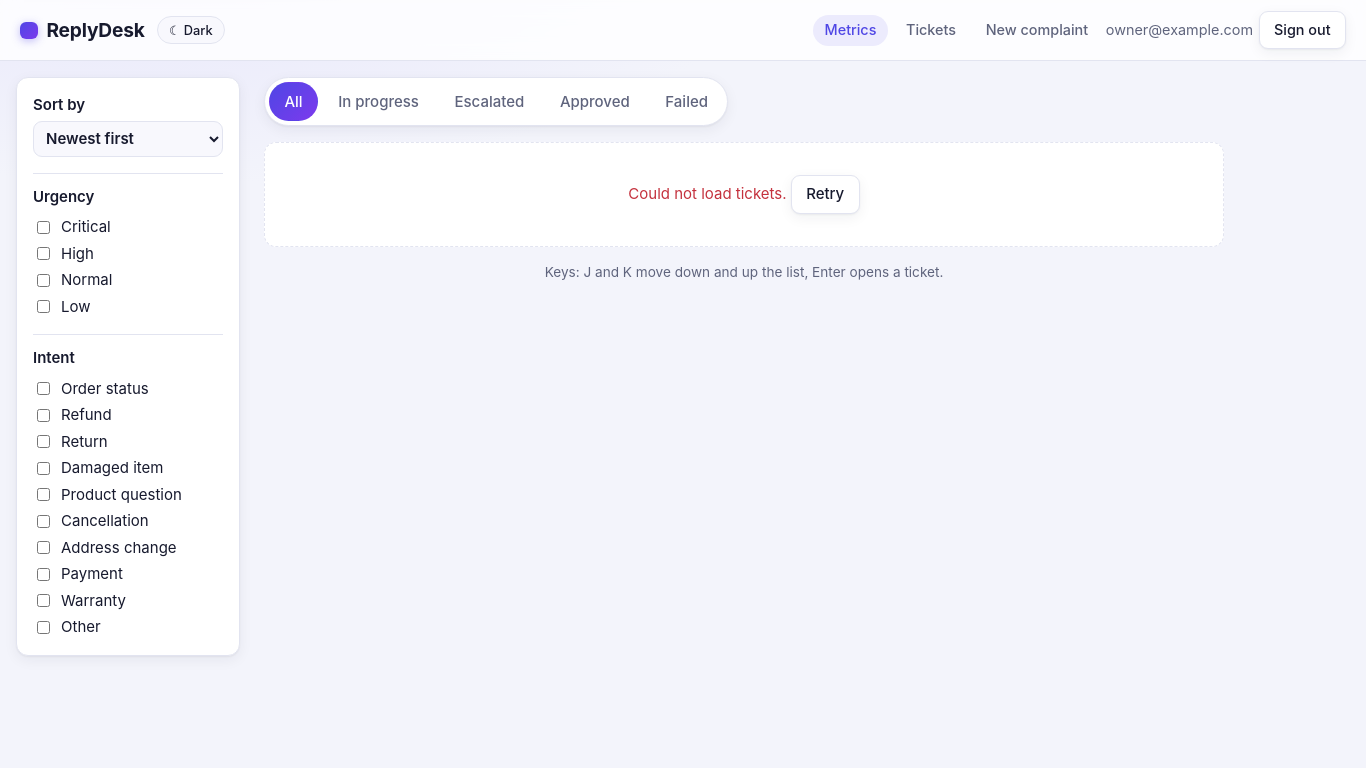
Test case: the queue › offers a retry when the list cannot be loaded
The width and height of the screenshot is (1366, 768).
Expected: the message "Could not load tickets. Retry" is shown, [264,142,1224,247]
What coordinates should you click on to do the following:
click the button "Retry"
I would click on:
 (825, 195)
Its box is [791,175,860,214].
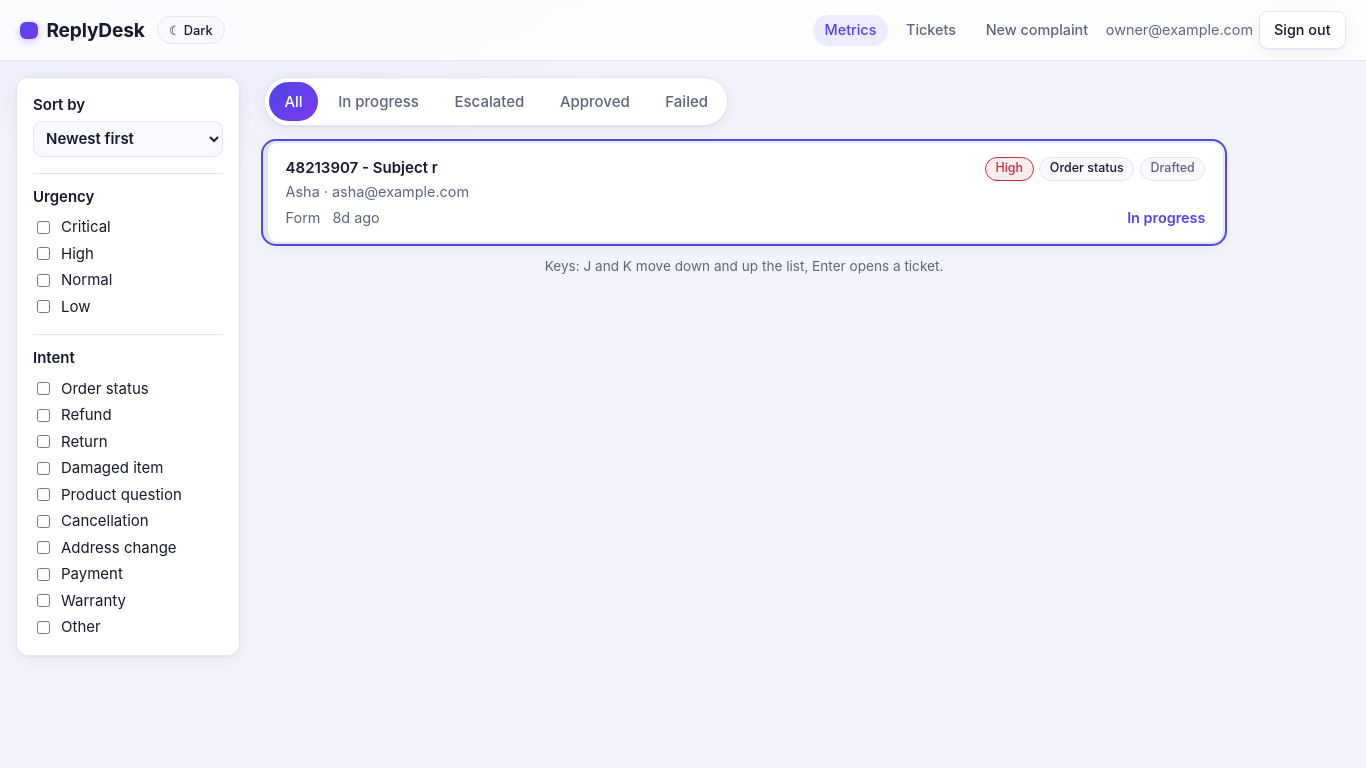
Result: the link "48213907 - Subject r" is shown at [286,158,438,177]
